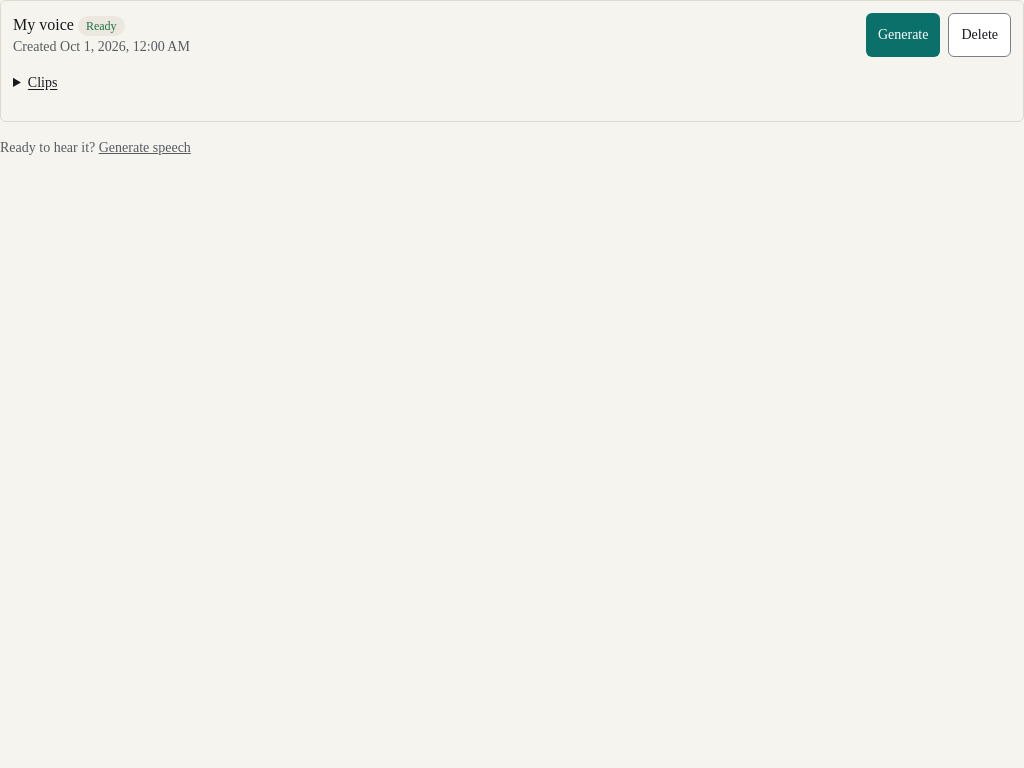
Test: VoiceProfileList › deletes only after confirmation, then removes the row
Step 1. Click the button with aria-label "Delete My voice" → (980, 35), box top-left (948, 13), bottom-right (1011, 57)
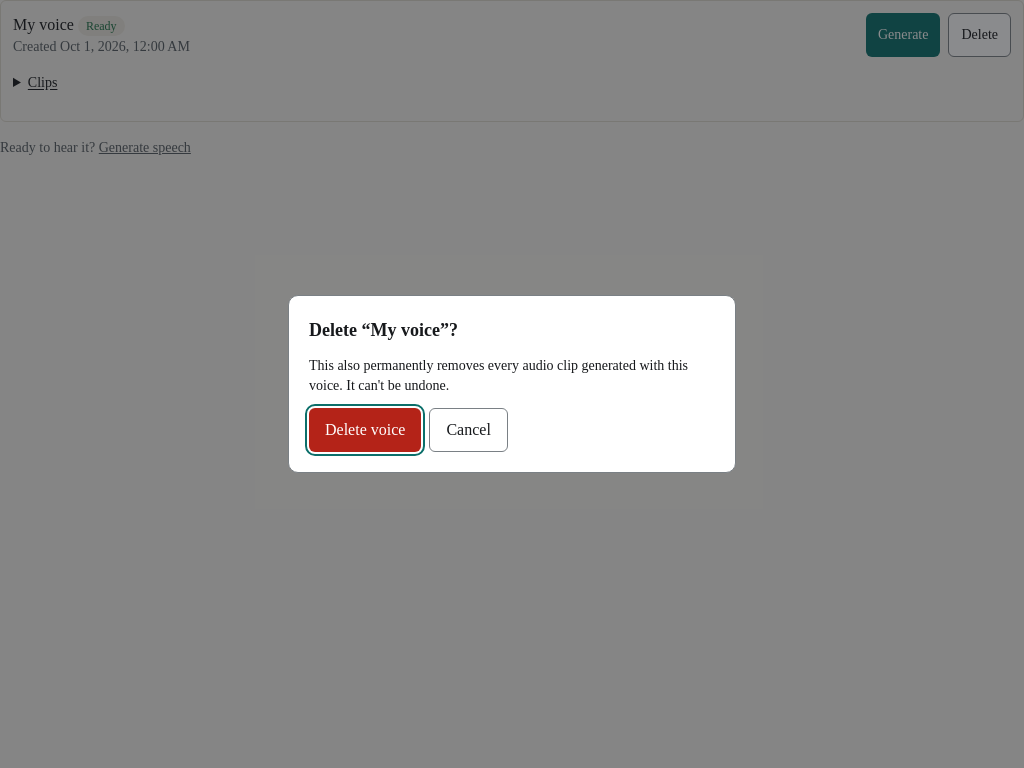
expect the dialog shows "permanently removes every audio clip": met, box top-left (309, 358), bottom-right (688, 393)
Step 2. Click the button "Delete voice" → (365, 430), box top-left (309, 408), bottom-right (421, 452)
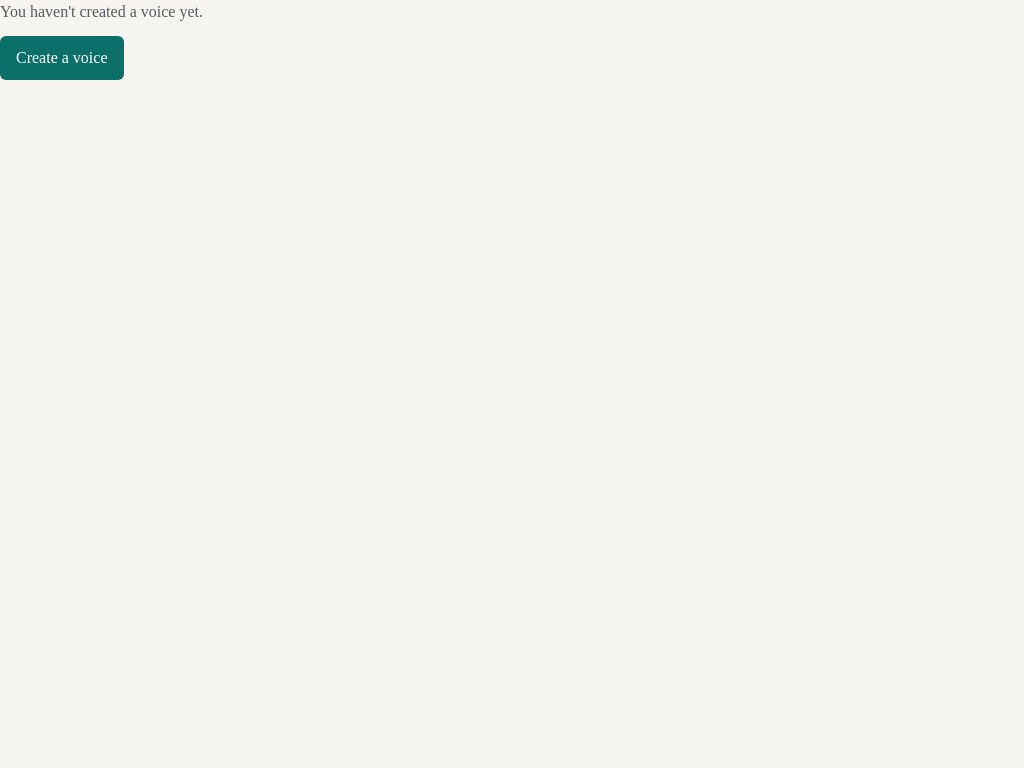
expect the text "My voice" is gone: met
